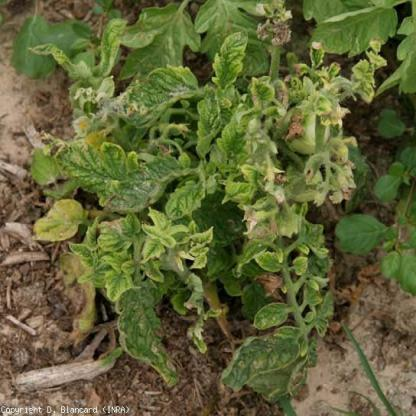Tomato leaf yellow virus: (48, 142, 146, 202), (128, 67, 201, 134), (115, 308, 170, 384), (213, 116, 257, 174), (163, 179, 210, 221), (216, 33, 247, 94), (249, 300, 296, 338), (102, 265, 138, 306), (222, 186, 263, 210), (252, 252, 288, 275), (292, 252, 314, 276), (143, 237, 163, 263)
